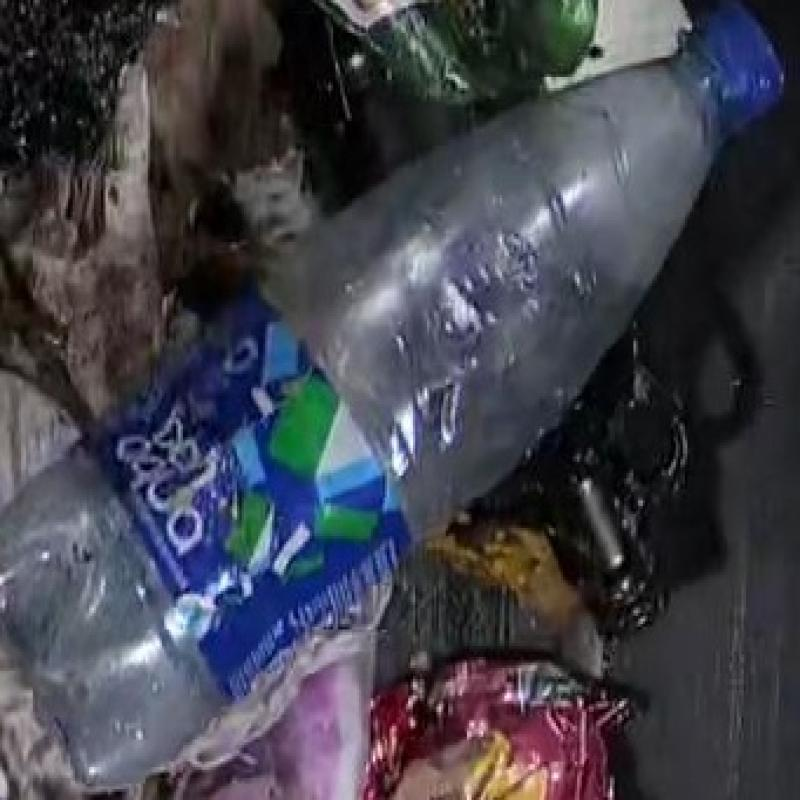botella: (4, 12, 800, 800)
